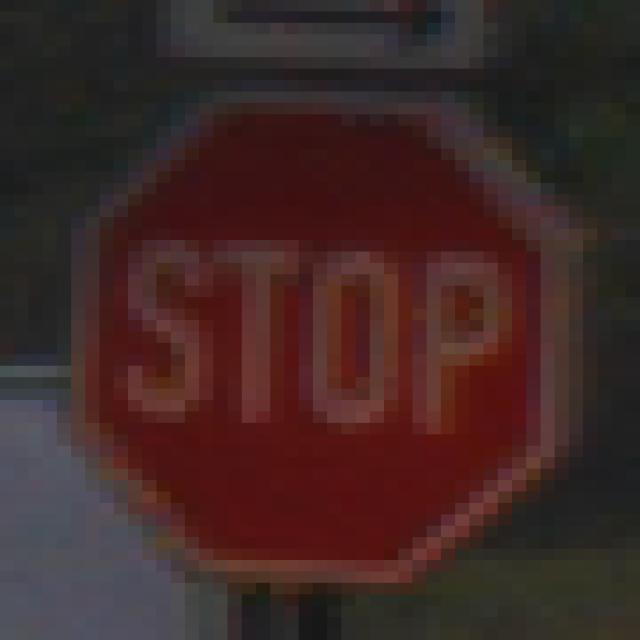STOP: (72, 69, 556, 584)
